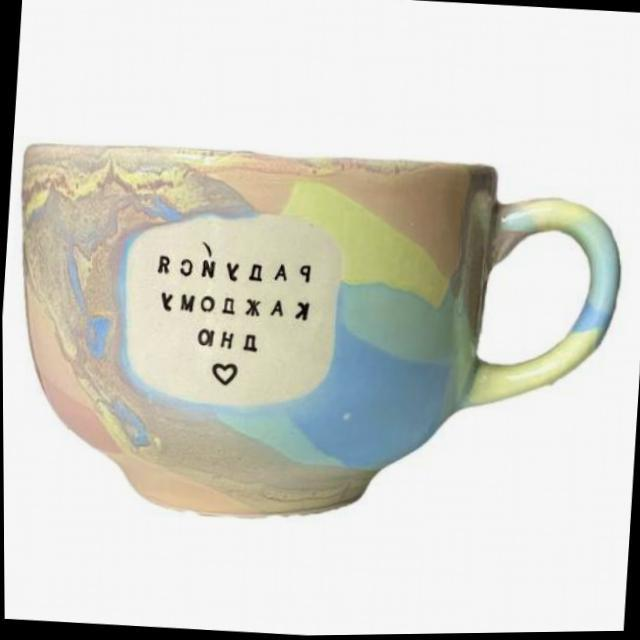cup: (1, 126, 631, 550)
